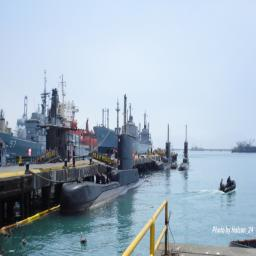submarine: (61, 134, 140, 217)
